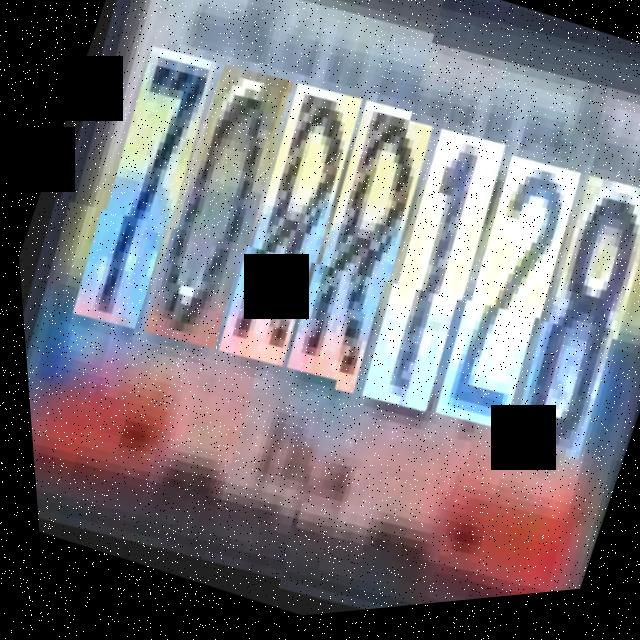1: (328, 132, 524, 433)
2: (401, 161, 597, 455)
7: (38, 48, 235, 350)
8: (474, 184, 640, 485)
O: (111, 70, 312, 373)
R: (251, 110, 452, 413), (183, 92, 380, 391)
